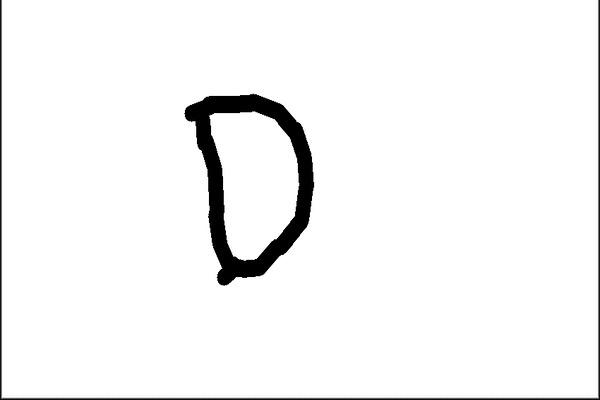D: (179, 89, 320, 287)
